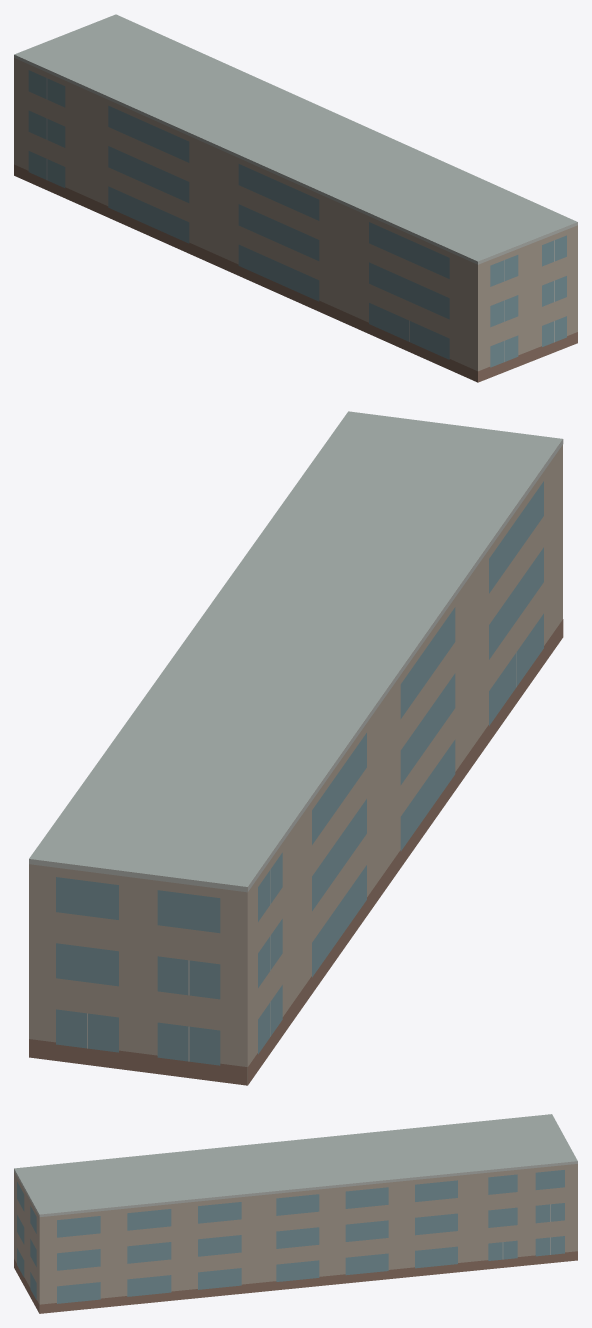
The model's file is survey-upis-32624353.glb.
3 renders of one model, top to bottom at view 1: azimuth 30°, elevation 25°; view 2: azimuth 150°, elevation 25°; view 3: azimuth 270°, elevation 25°, orthographic. The views are drawn at different scales.
Parts seen in each view (by area): view 1: survey-upis-32624353.tmp; view 2: survey-upis-32624353.tmp; view 3: survey-upis-32624353.tmp.
Boxes of the visible parts, x1,y1,x2,y2 form: survey-upis-32624353.tmp: (14, 14, 577, 382); survey-upis-32624353.tmp: (29, 411, 563, 1085); survey-upis-32624353.tmp: (14, 1114, 577, 1313).
Size of the model in its own units: 19.88 by 9.15 by 47.11.
